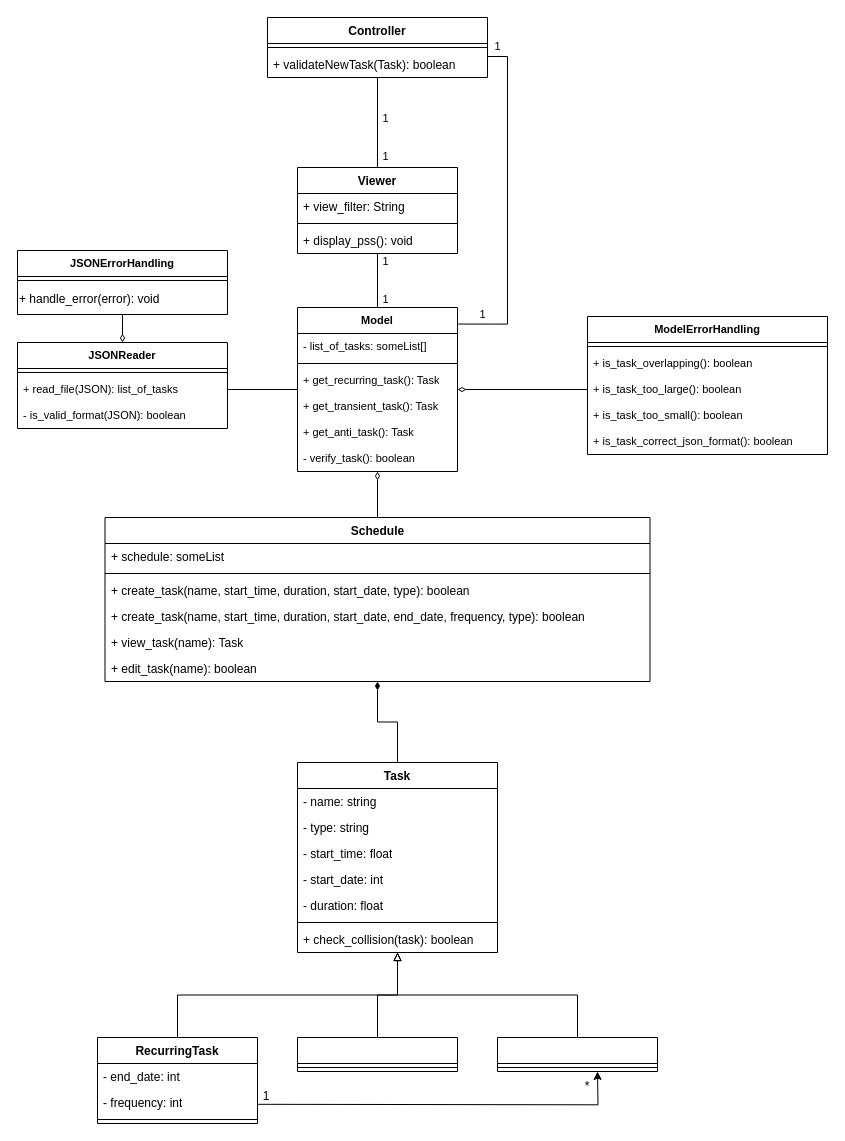
Image size: 845x1141. Some labels were removed from this diagram. Each missing label, with the centre of its shape:
"AntiTask" belongs at (577,1054).
"TransientTask" belongs at (377,1054).
